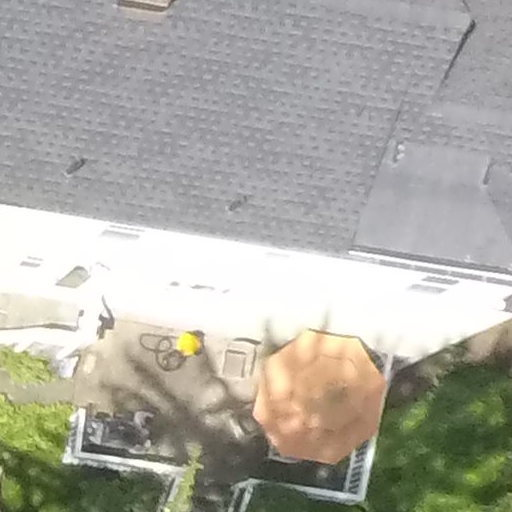umbrella: (253, 297, 399, 474)
